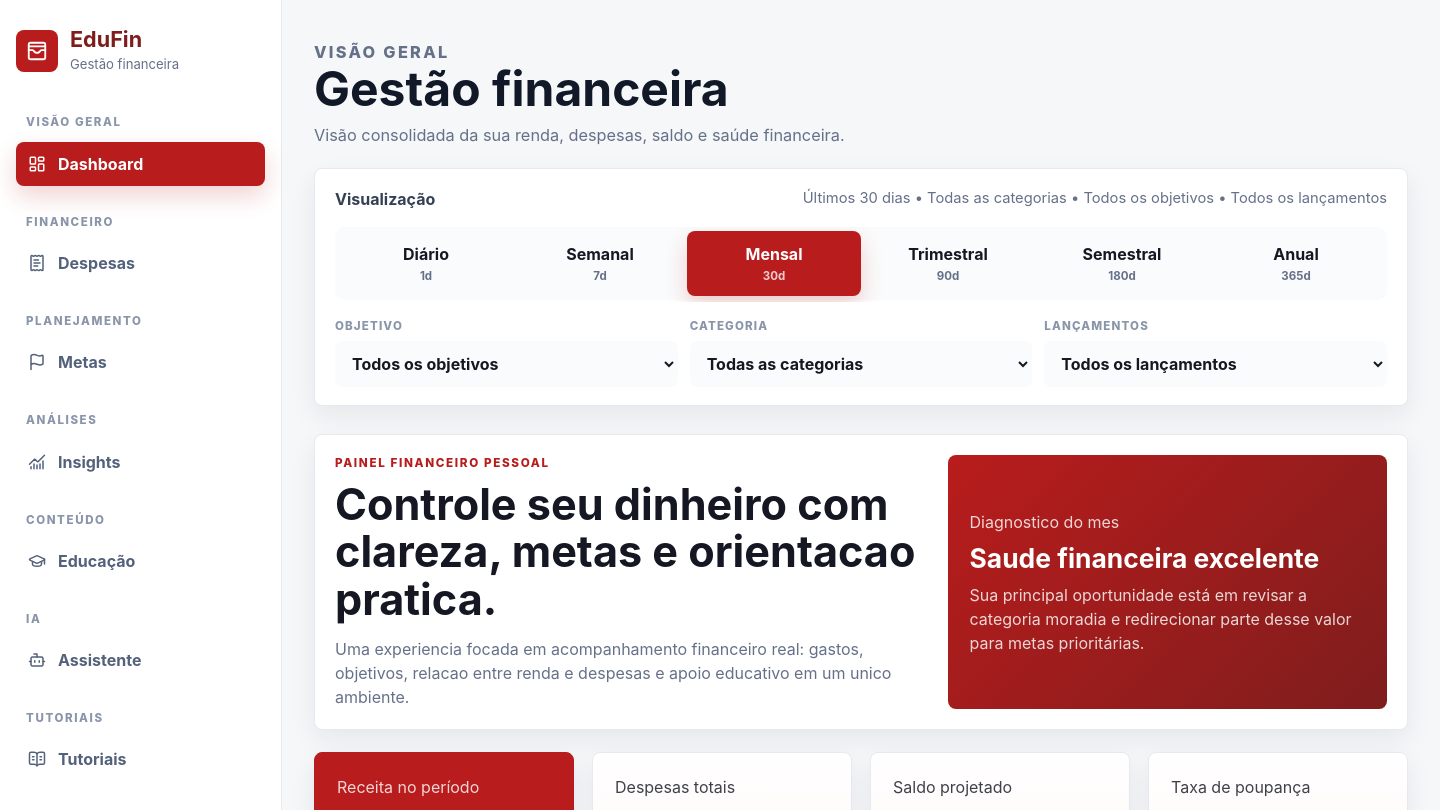
App › opens an education lesson from the content page
Expected: the heading "Gestão financeira" is shown, [314,60,729,118]
Click the button "Educação": [140, 561] box [16,539,265,583]
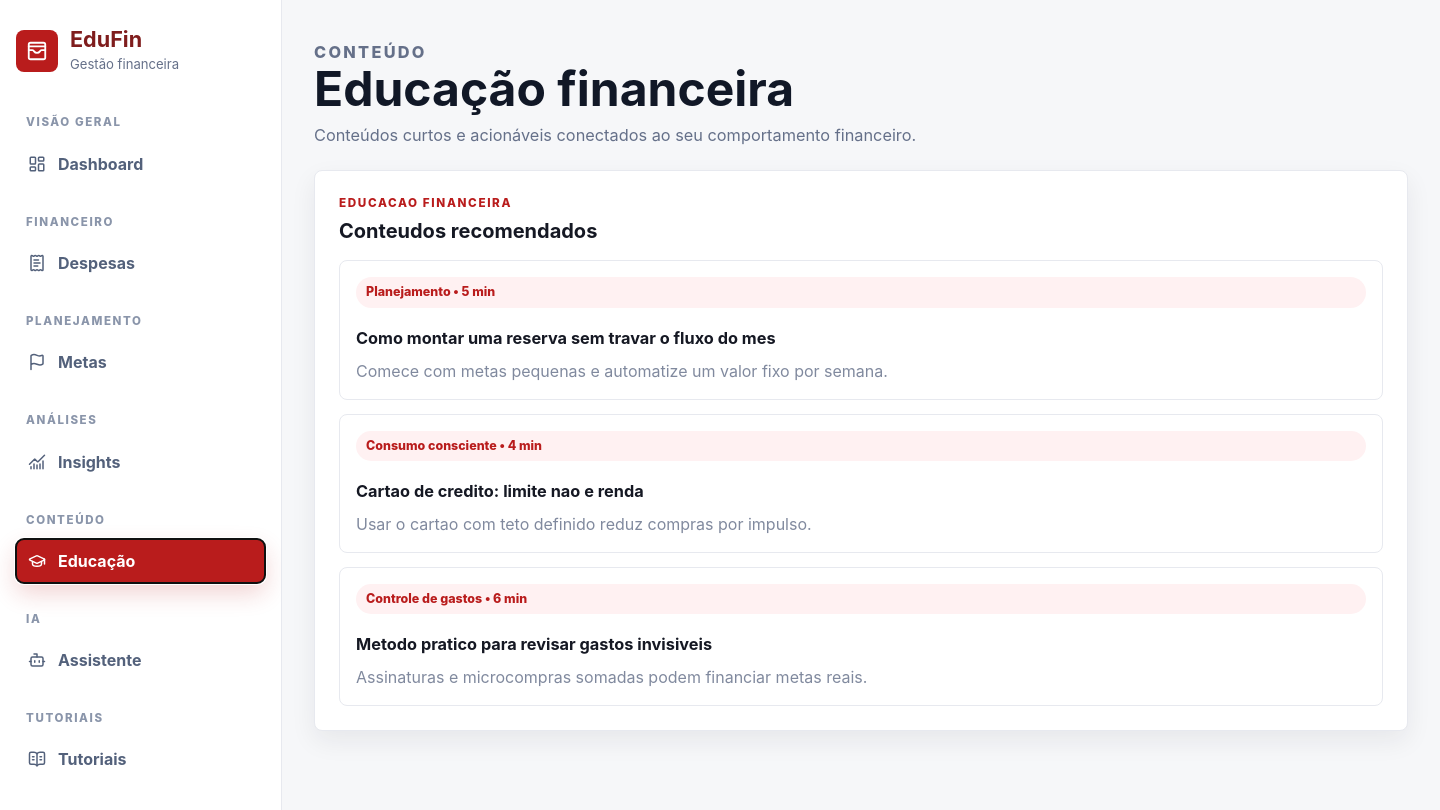
Click the button "Como montar uma reserva sem travar o fluxo do mes": [861, 293] box [339,260,1383,400]
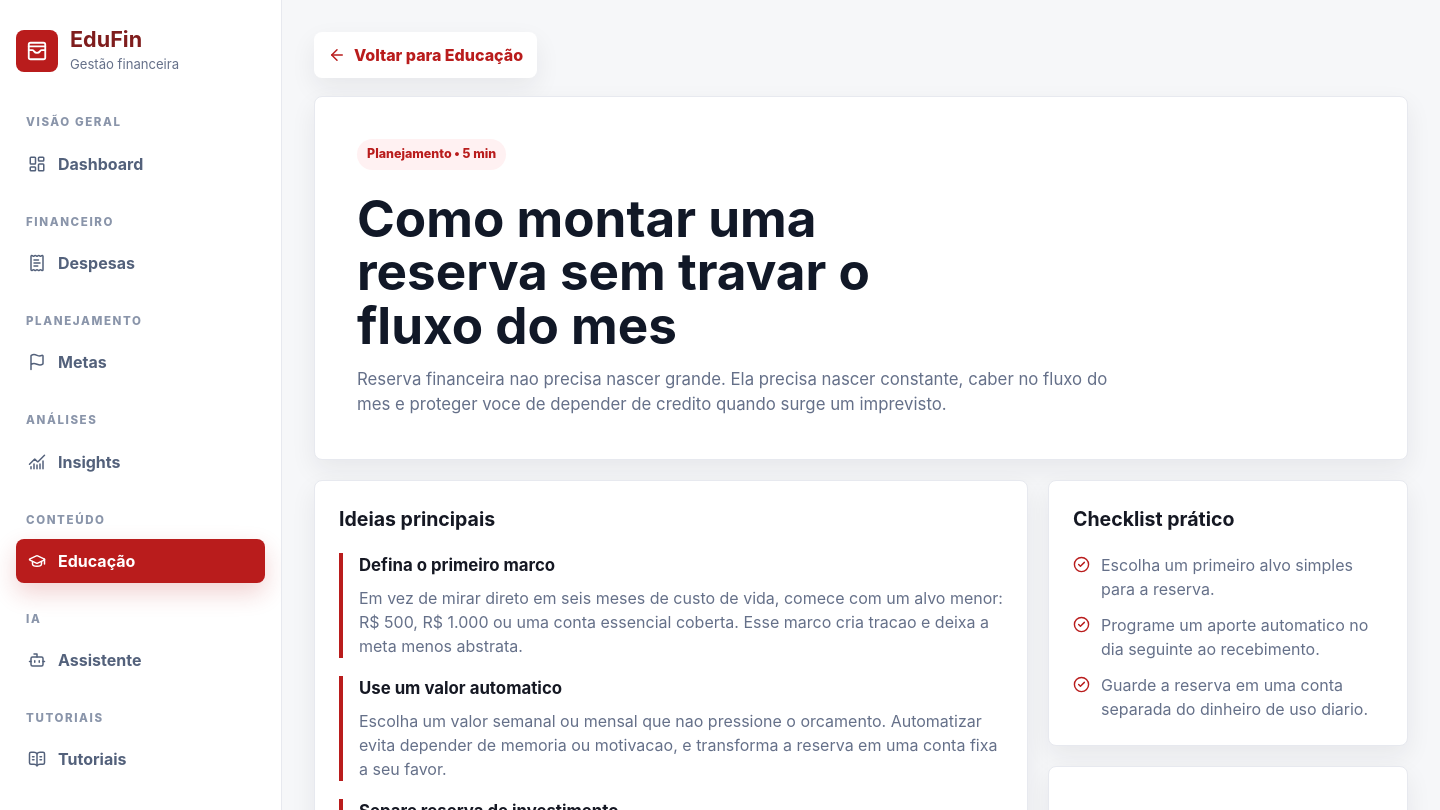
Result: the heading "Como montar uma reserva sem travar o fluxo do mes" is shown at [357,187,870,356]
Result: the heading "Defina o primeiro marco" is shown at [359,555,555,575]
